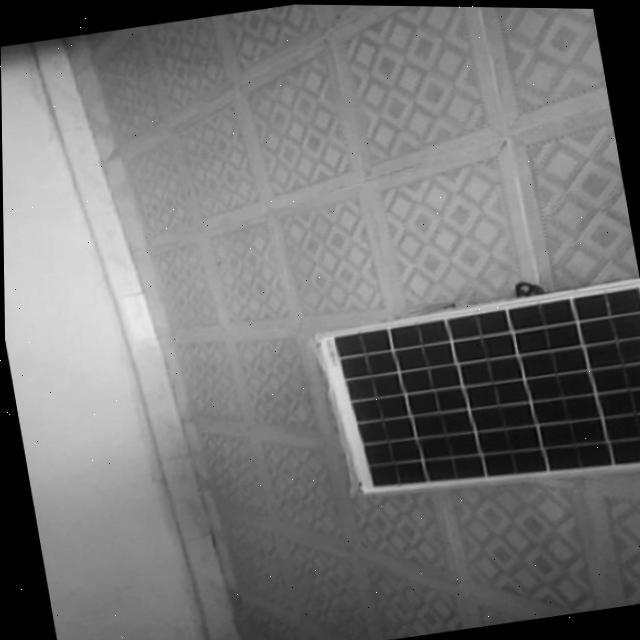Normal Solar Panel: (313, 272, 640, 514)
